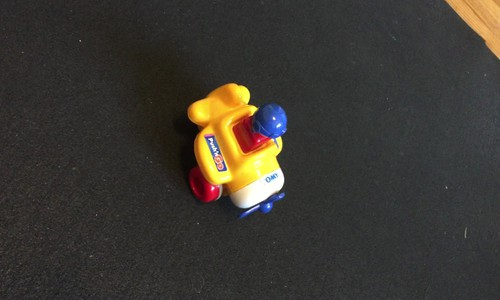toy: (185, 74, 296, 227)
